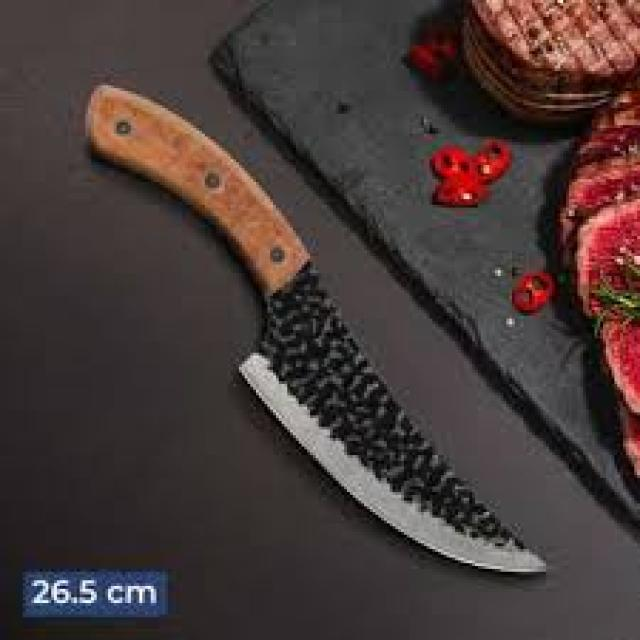Knife: (88, 82, 546, 577)
